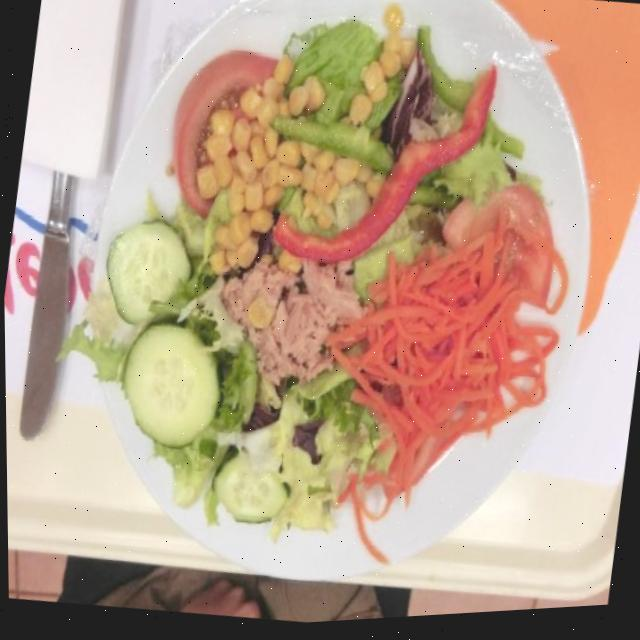蔬菜料理: (50, 0, 627, 628)
